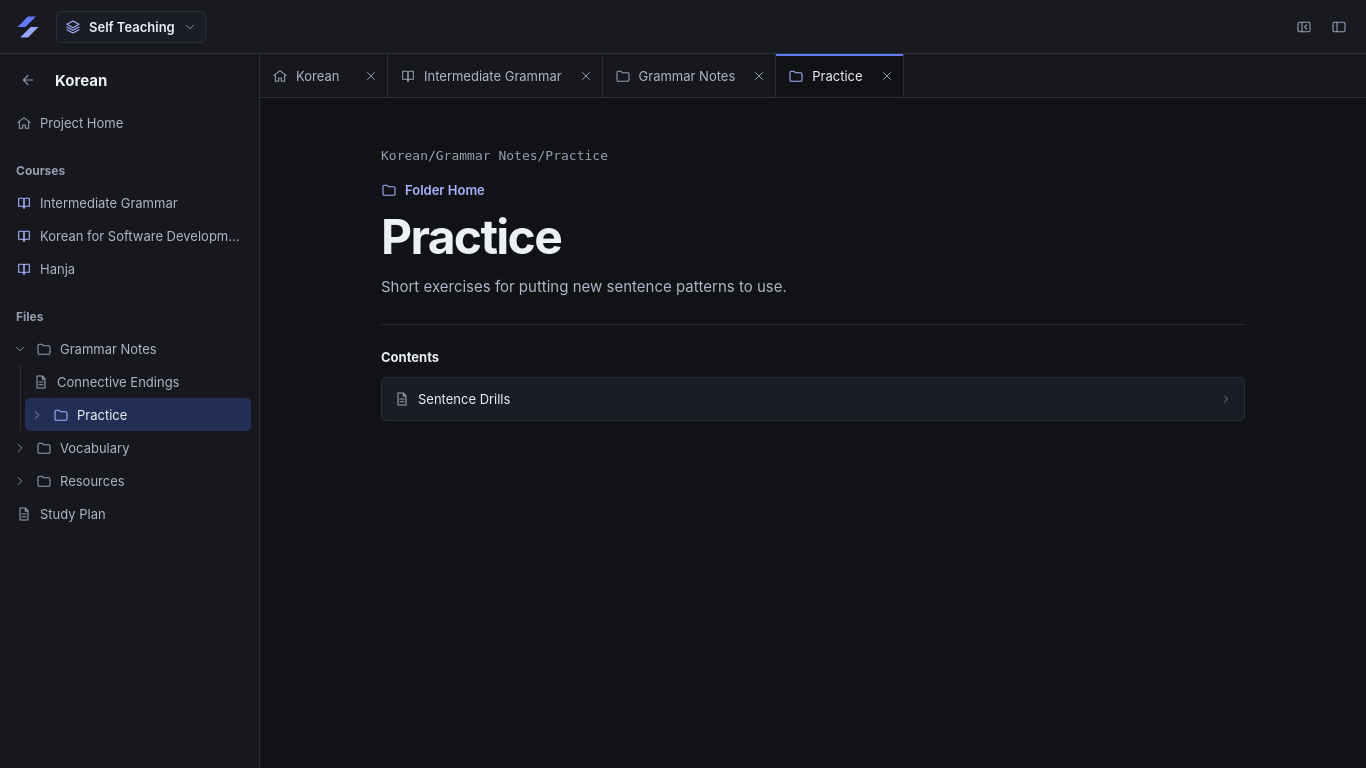
it: shows courses and files together and opens nested folder homes, notes, and PDF references
Earlier steps of the test are not shown.
Expected: the heading "Practice" is shown, [381, 206, 561, 266]
Expected: the text "Korean/Grammar Notes/Practice" is shown, [381, 148, 608, 163]
Click the button named "Expand Practice" at (37, 414), box [25, 398, 49, 431]
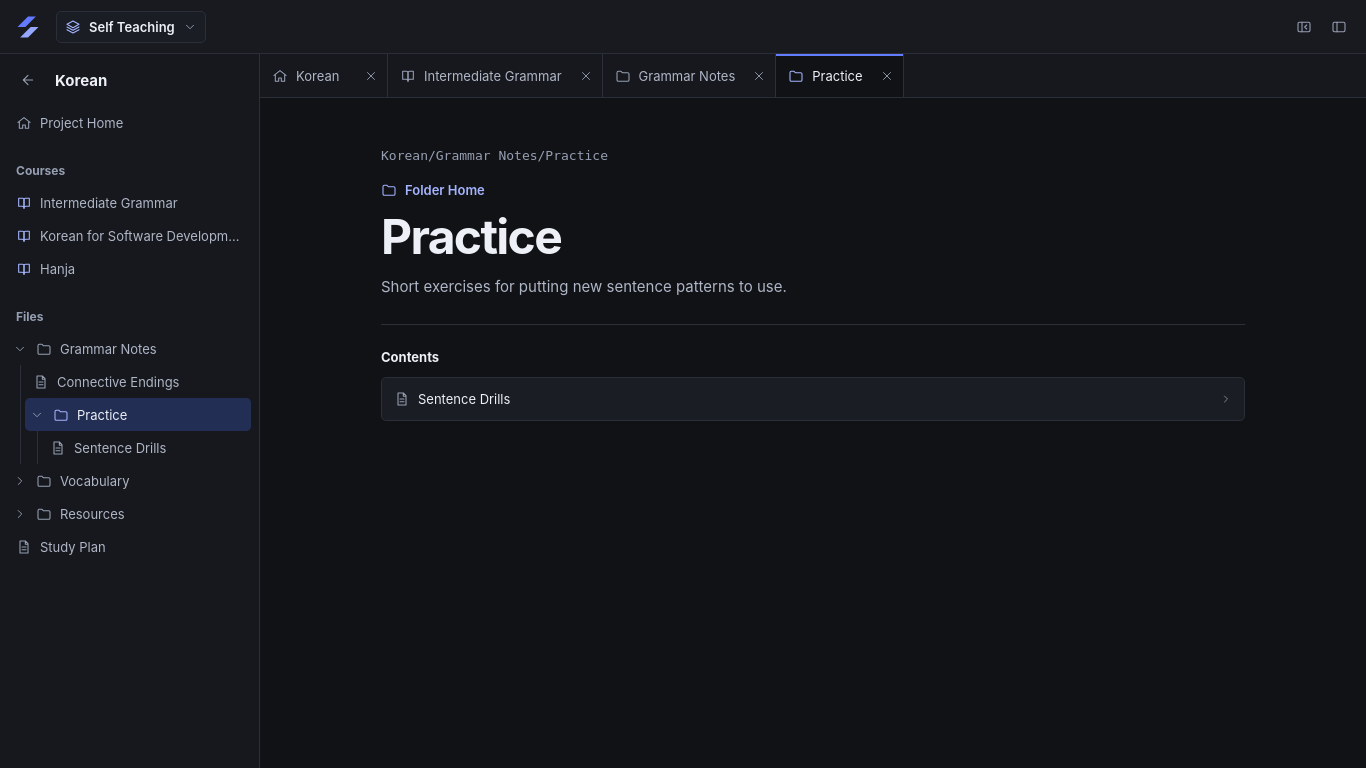
Expected: the heading "Practice" is shown, [381, 206, 561, 266]
Click the 2nd button "Sentence Drills" at (146, 448), box [42, 431, 251, 464]
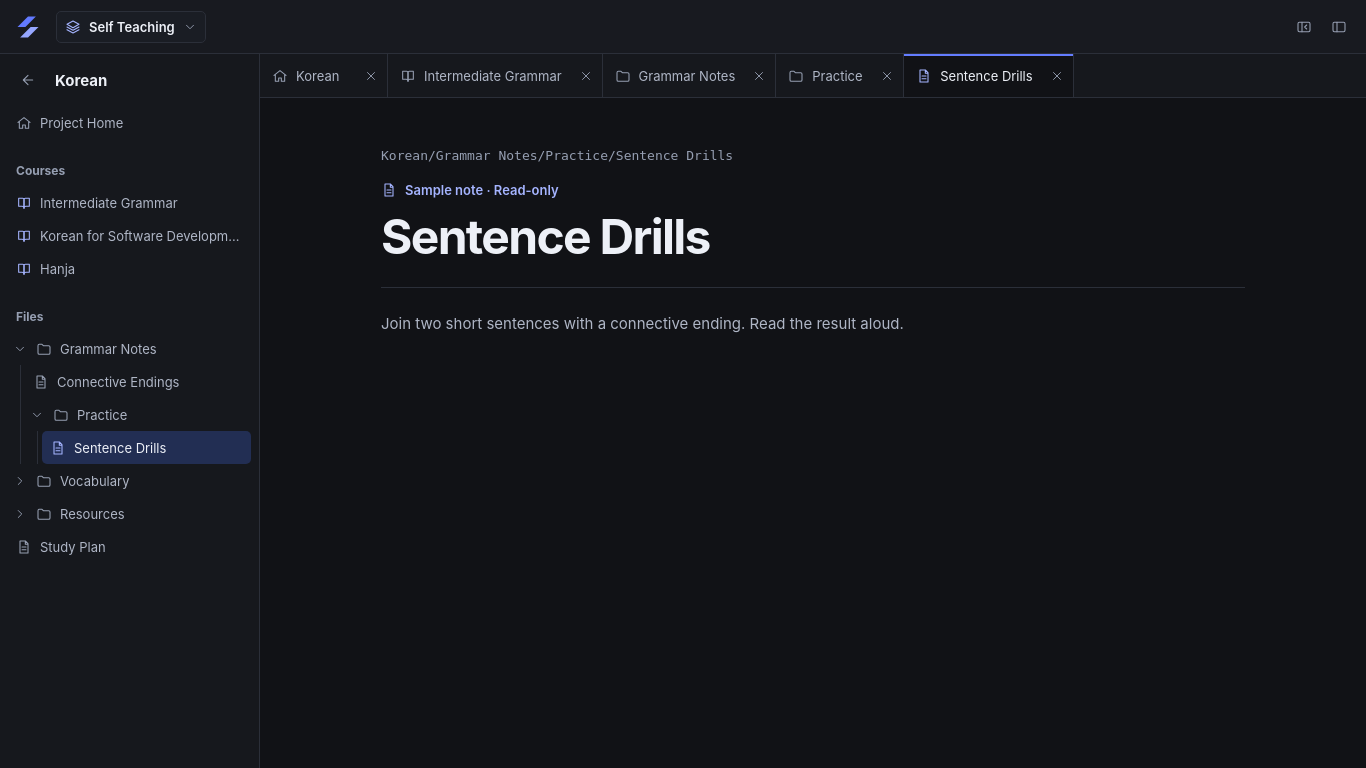
Expected: the heading "Sentence Drills" is shown, [381, 206, 710, 266]
Expected: the text "Korean/Grammar Notes/Practice/Sentence Drills" is shown, [381, 148, 733, 163]
Click the button "Grammar Notes" at (142, 348), box [32, 332, 251, 365]
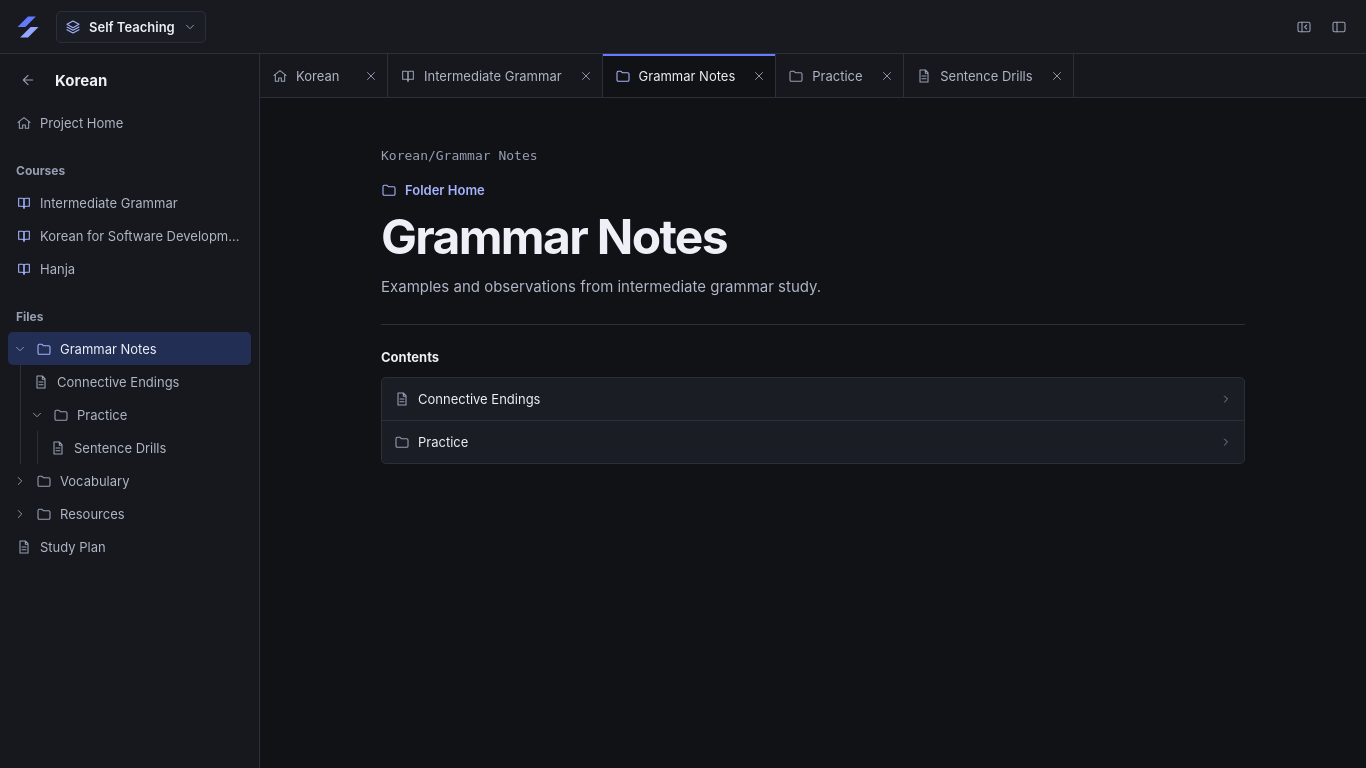
Expected: the heading "Grammar Notes" is shown, [381, 206, 727, 266]
Expected: the button "Grammar Notes" is expanded
Click the button "Grammar Notes" at (142, 348), box [32, 332, 251, 365]
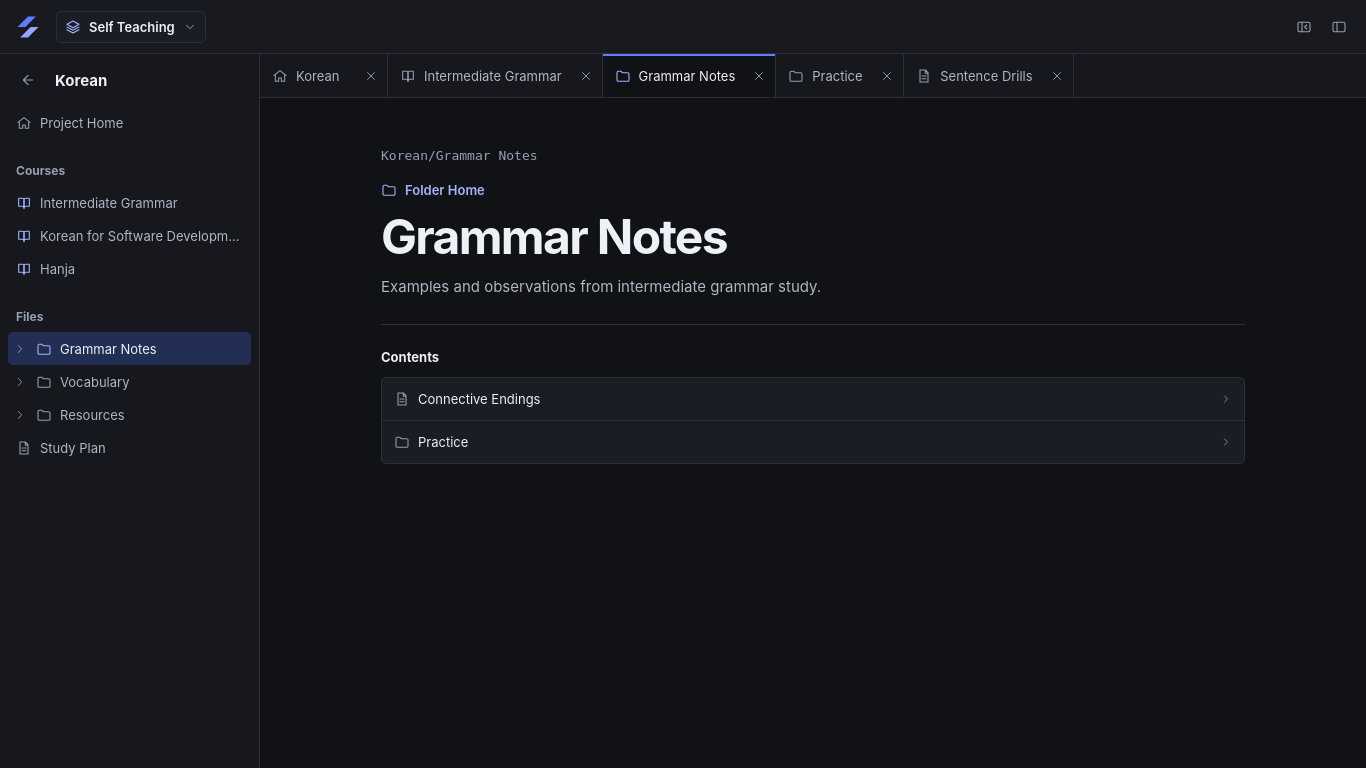
Click the button named "Expand Resources" at (20, 414), box [8, 398, 32, 431]
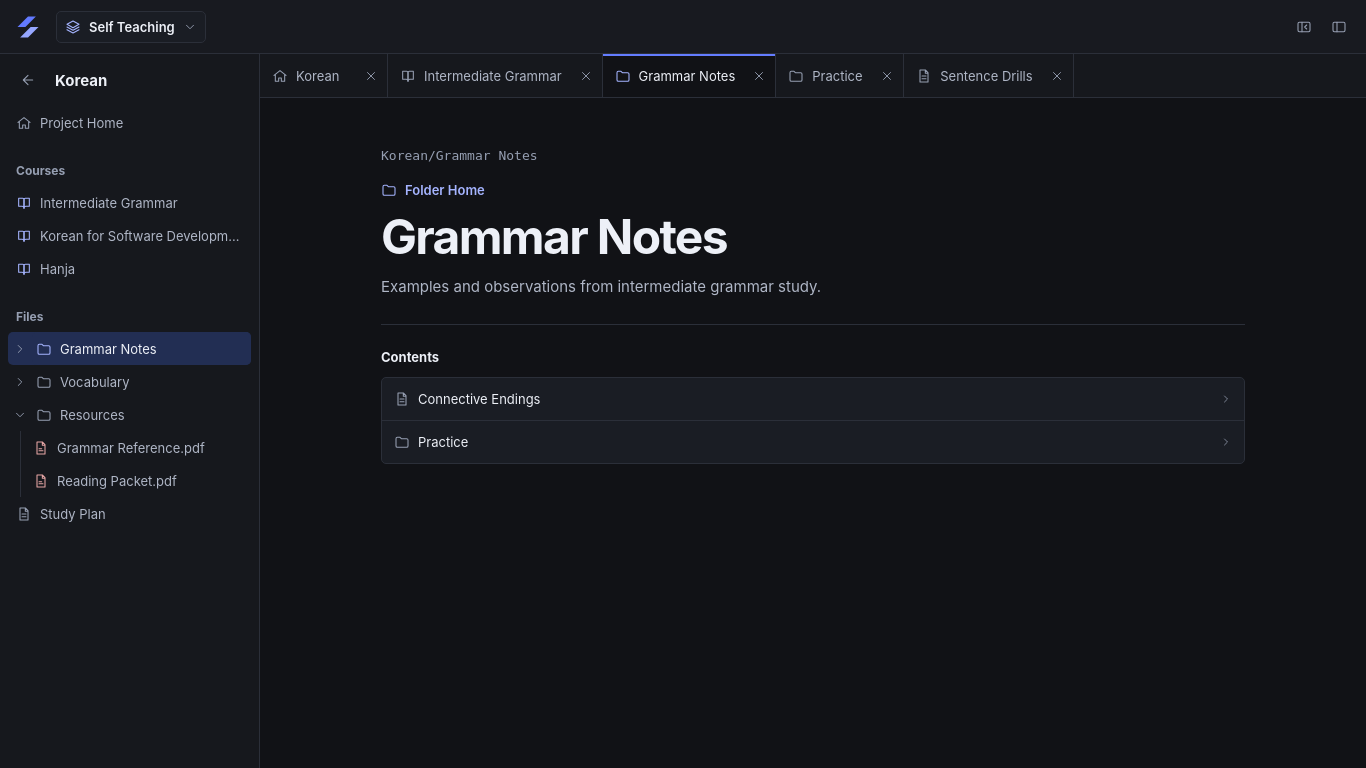
Expected: the heading "Grammar Notes" is shown, [381, 206, 727, 266]
Click the button "Grammar Reference.pdf" at (138, 448), box [25, 431, 251, 464]
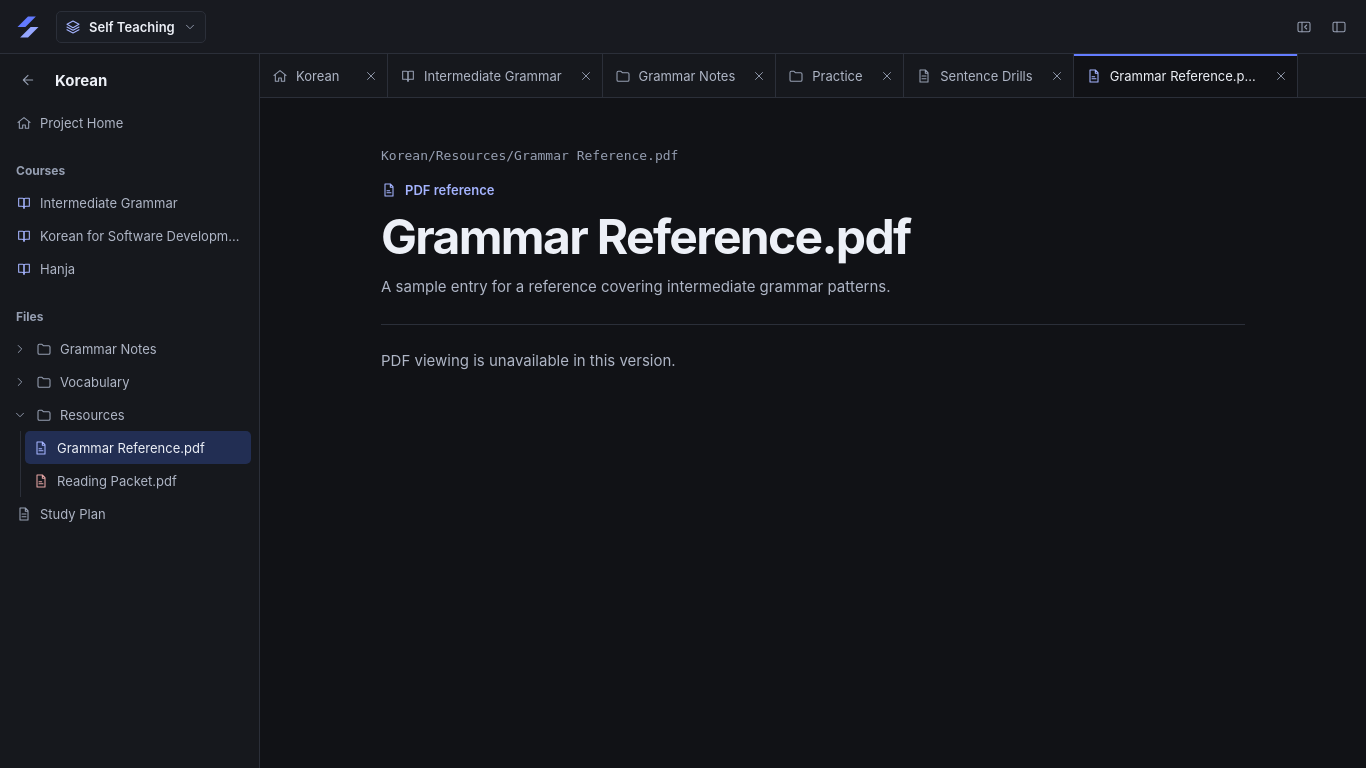
Expected: the heading "Grammar Reference.pdf" is shown, [381, 206, 910, 266]
Expected: the text "Korean/Resources/Grammar Reference.pdf" is shown, [381, 148, 678, 163]
Expected: the text "PDF viewing is unavailable in this version." is shown, [381, 351, 676, 370]
